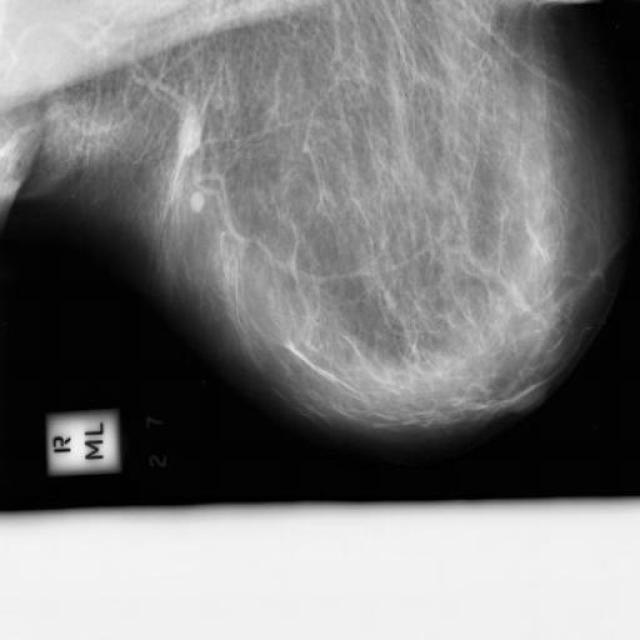cancer: (162, 106, 216, 170), (180, 184, 210, 228)
